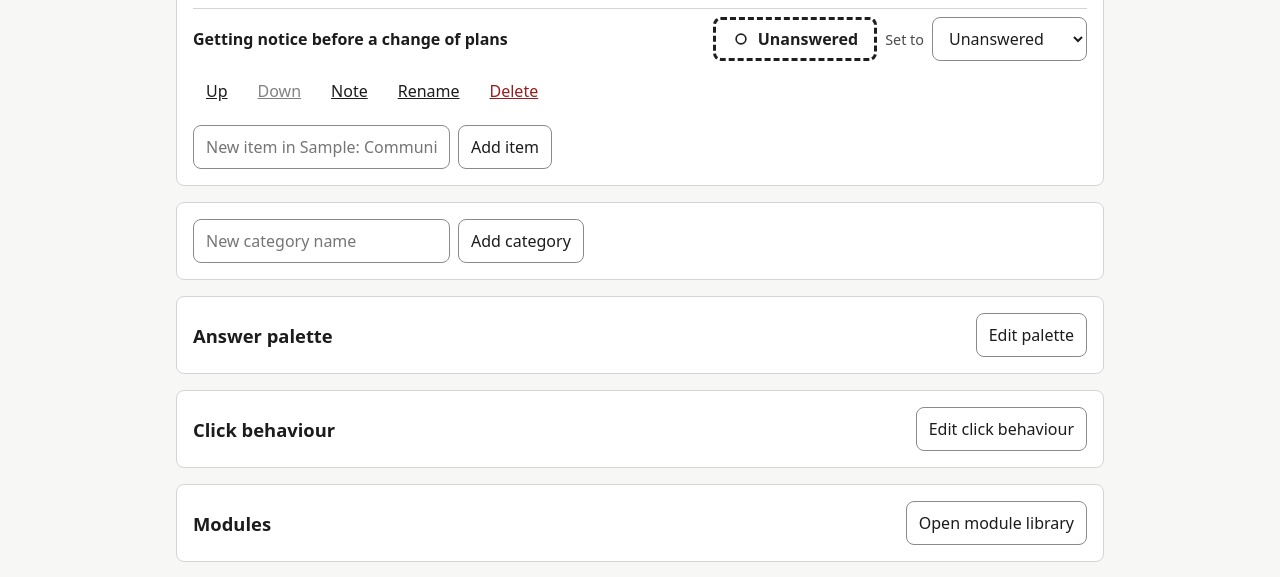
Test: contrast note in the state editor (M2-03) › says a built-in state is easy to read, with its ratio
(page scrolled)
What coordinates should you click on to do the following:
click the button "Edit palette"
I would click on:
 (1031, 335)
Its box is [976,313,1087,357].
(page scrolled)
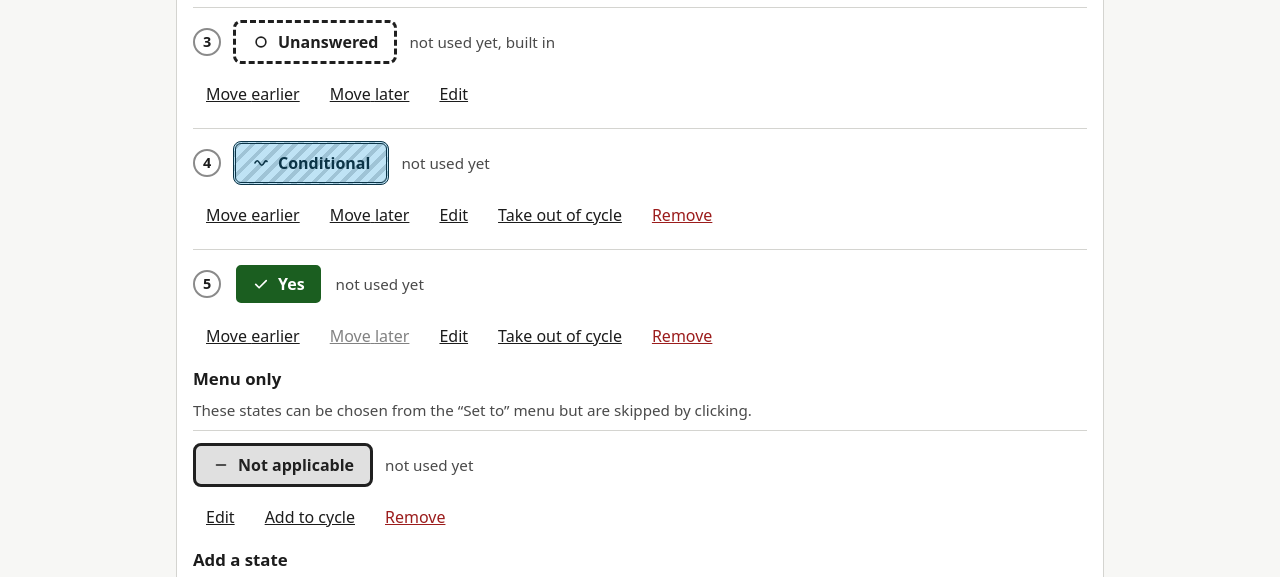
What coordinates should you click on to do the following:
click the button named "Edit Yes"
I would click on:
 (454, 336)
Its box is [426,314,481,358].
(page scrolled)
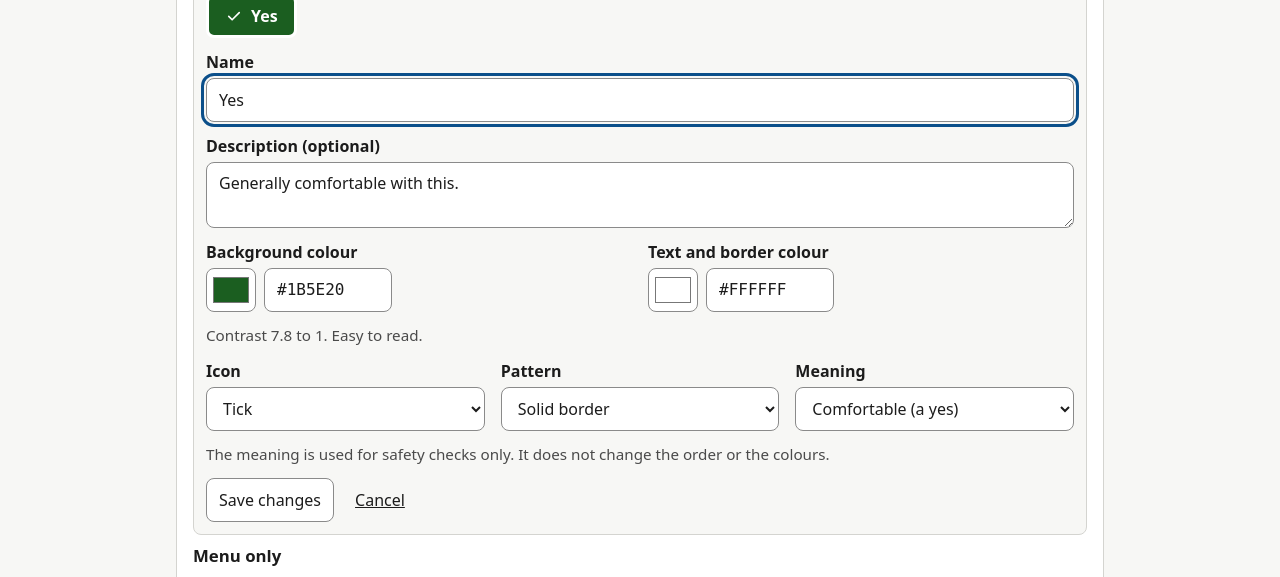
Now the text with class "contrast-note" reads "Contrast 7.8 to 1. Easy to read.", box [206,325,423,345]
